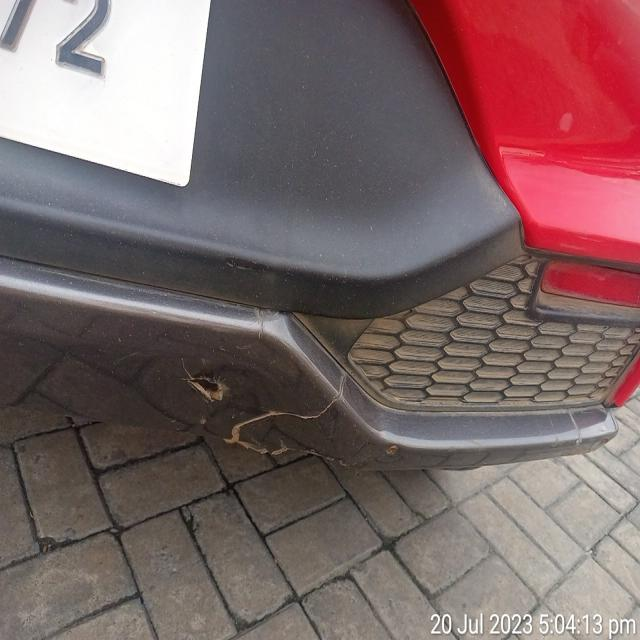damage: (168, 336, 362, 464)
